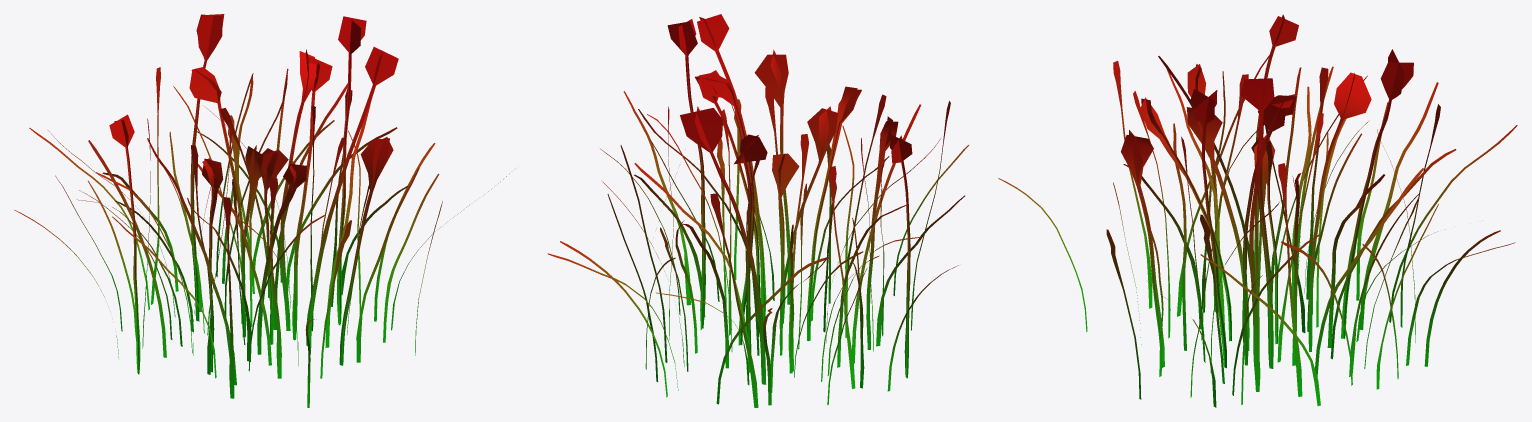
The model's file is Cotton Grass_LOD2_Var1_wlykecdia.fbx.
3 views of the same model, side by side, from view 1: azimuth 30°, elevation 25°; view 2: azimuth 150°, elevation 25°; view 3: azimuth 270°, elevation 25° (orthographic). The views are drawn at different scales.
Parts seen in each view (by area): view 1: _c9ib_Var1_LOD2; view 2: _c9ib_Var1_LOD2; view 3: _c9ib_Var1_LOD2.
Boxes of the visible parts, x1,y1,x2,y2 form: _c9ib_Var1_LOD2: [14, 14, 509, 407]; _c9ib_Var1_LOD2: [547, 14, 968, 407]; _c9ib_Var1_LOD2: [998, 14, 1517, 407].
Bounding box in the file's own units: 35.45 × 24.64 × 35.39.
